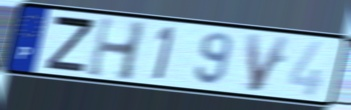1: (152, 25, 177, 83)
4: (285, 39, 325, 99)
9: (192, 31, 235, 87)
H: (85, 14, 150, 83)
V: (244, 32, 293, 94)
Z: (44, 13, 97, 75)
